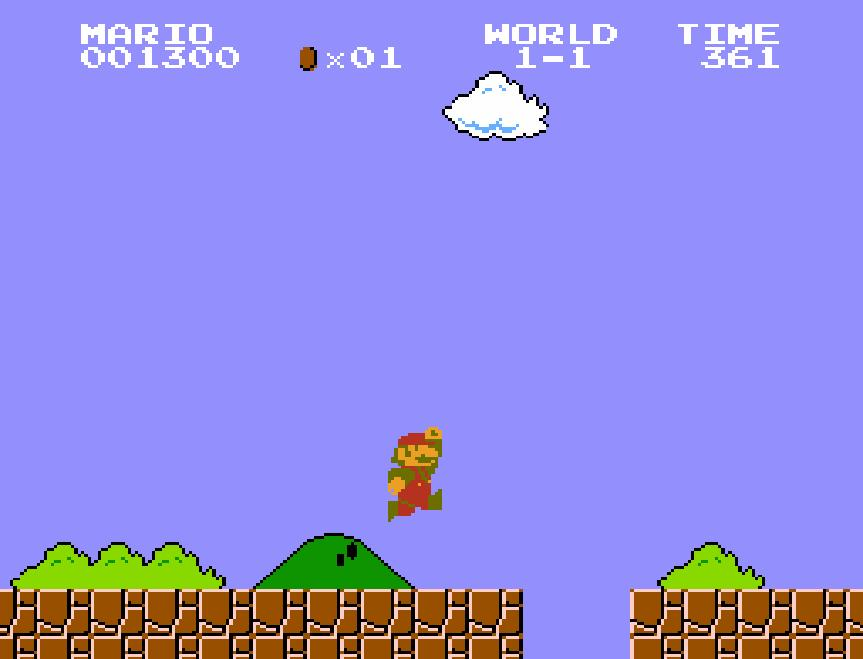big_mario: (386, 425, 444, 524)
